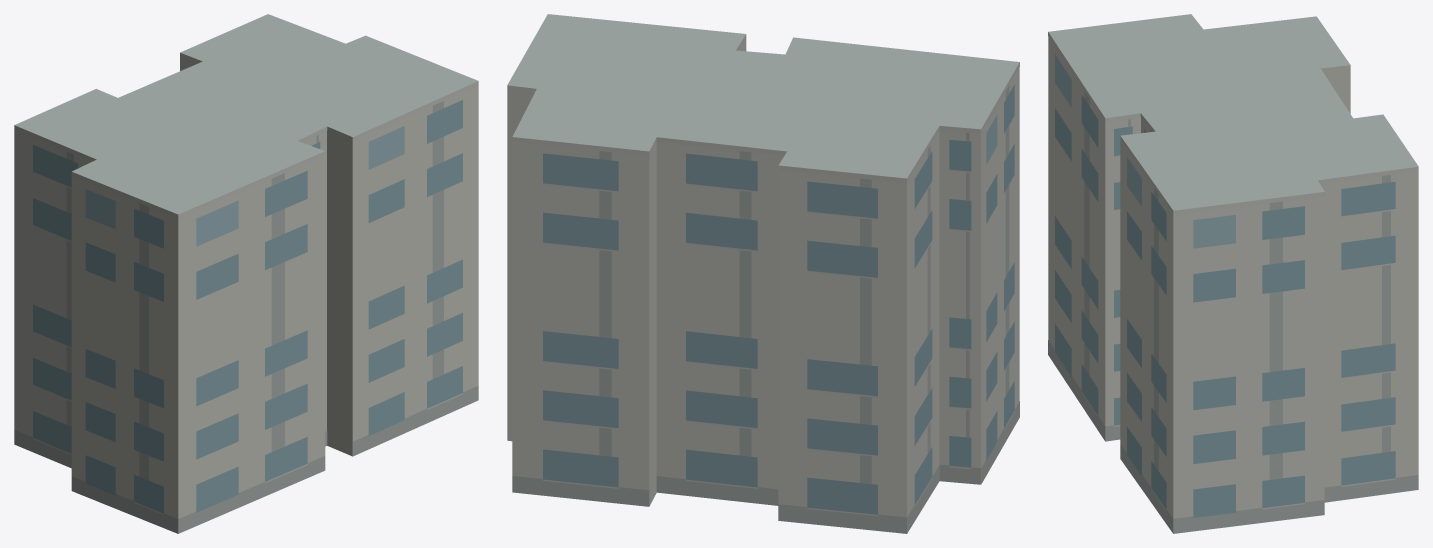
The model's file is survey-upis-32857070.glb.
3 views of the same model, side by side, from view 1: azimuth 30°, elevation 25°; view 2: azimuth 150°, elevation 25°; view 3: azimuth 270°, elevation 25° (orthographic). The views are drawn at different scales.
Visible parts, largest first — view 1: survey-upis-32857070.tmp; view 2: survey-upis-32857070.tmp; view 3: survey-upis-32857070.tmp.
Boxes of the visible parts, <box> form: survey-upis-32857070.tmp: <box>14,14,478,533</box>; survey-upis-32857070.tmp: <box>507,14,1019,533</box>; survey-upis-32857070.tmp: <box>1048,14,1418,533</box>.
Bounding box in the file's own units: 23.43 × 17.95 × 18.66.
